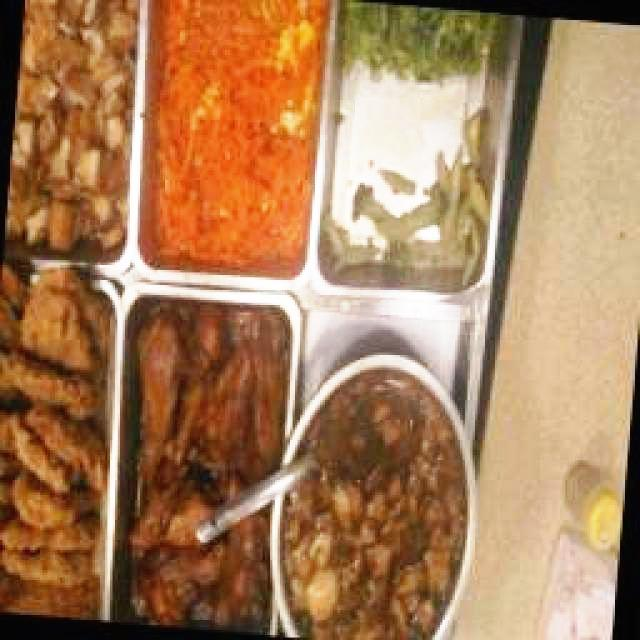carrot_eggs: (141, 0, 345, 280)
curry: (312, 447, 452, 582), (281, 502, 457, 601), (321, 372, 431, 461), (294, 582, 436, 640)
fried_chicken: (0, 263, 101, 612), (2, 345, 100, 421), (19, 287, 95, 372), (31, 403, 106, 489), (9, 469, 77, 534), (10, 425, 70, 496), (4, 545, 93, 589), (4, 521, 95, 555)
water_spinach: (344, 5, 427, 63), (432, 12, 504, 77)
